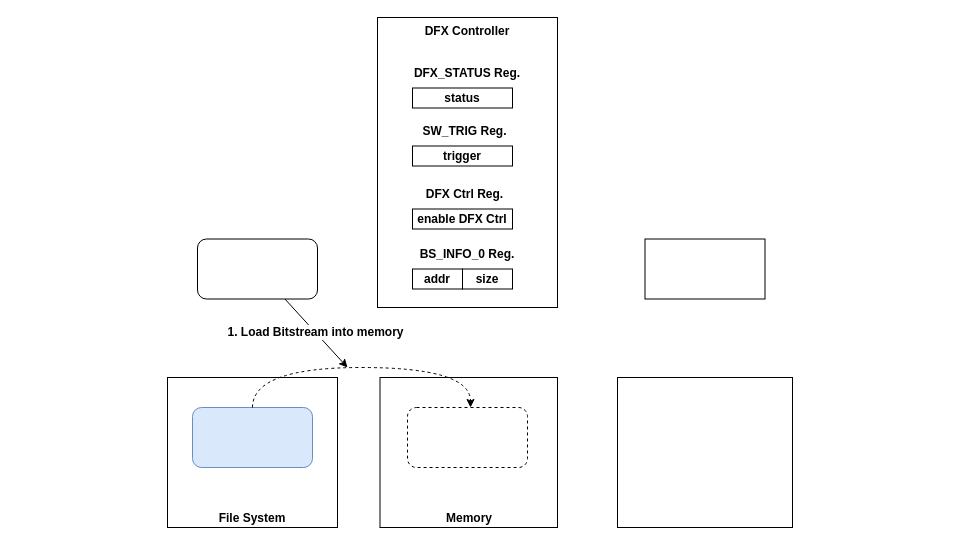
Image size: 954x545. Some labels were removed from this diagram. Each missing label, with the box of its shape:
ICAP: (644, 238, 765, 299)
RM Partial Bitstream File: (192, 406, 312, 468)
RP: (616, 376, 792, 528)
Software: (196, 238, 318, 299)
